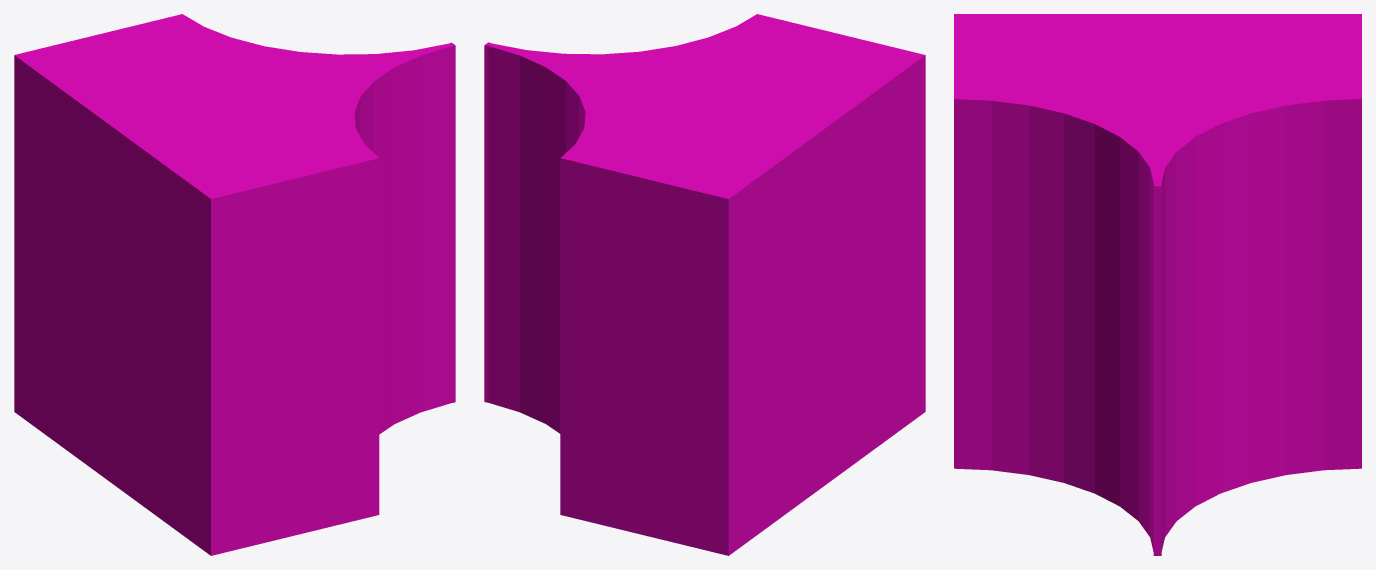
Rendered from doublecurvedsquare.fbx.
3 views of the same model, side by side, from view 1: azimuth 30°, elevation 25°; view 2: azimuth 150°, elevation 25°; view 3: azimuth 270°, elevation 25° (orthographic). The views are drawn at different scales.
Visible parts, largest first — view 1: Cube; view 2: Cube; view 3: Cube.
Part boxes in pixels (x1=…): Cube: x1=14, y1=14, x2=455, y2=555; Cube: x1=484, y1=14, x2=925, y2=555; Cube: x1=954, y1=14, x2=1361, y2=555.
Bounding box in the file's own units: 334 × 334 × 334.
